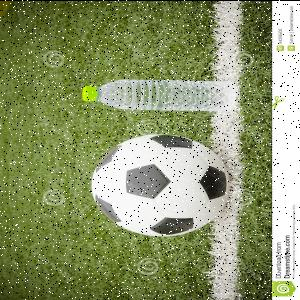Plastic-bottle: (82, 81, 236, 111)
